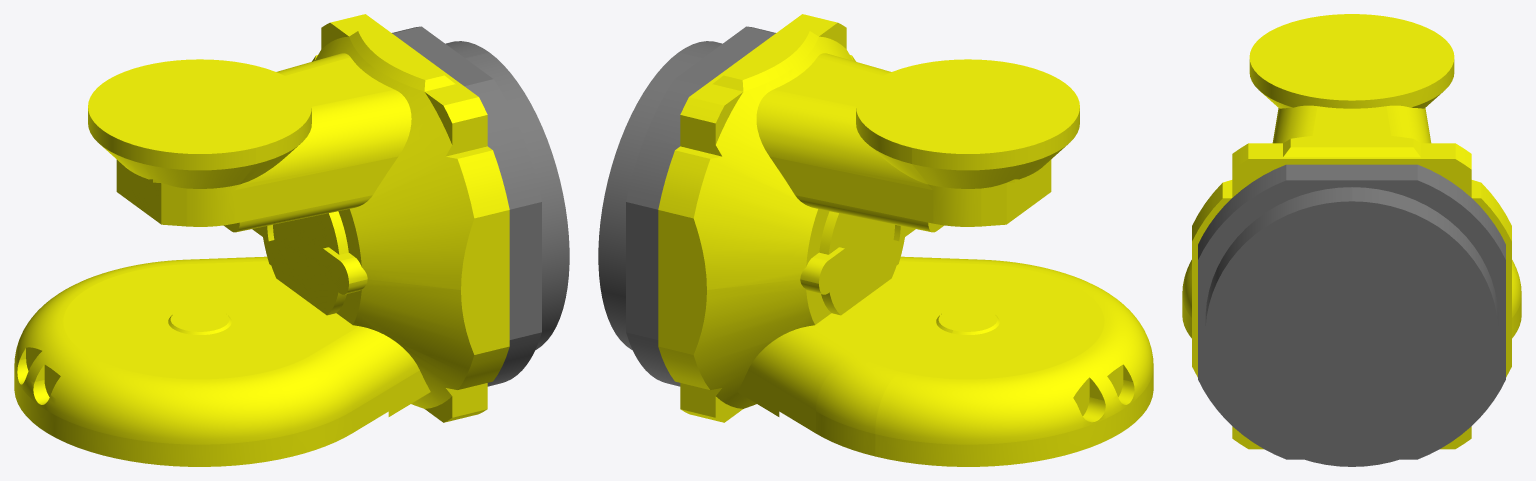
3 views of the same model, side by side, from view 1: azimuth 30°, elevation 25°; view 2: azimuth 150°, elevation 25°; view 3: azimuth 270°, elevation 25° (orthographic). The views are drawn at different scales.
Parts seen in each view (by area): view 1: Mesh_0; view 2: Mesh_0; view 3: Mesh_0.
Boxes of the visible parts, x1,y1,x2,y2 form: Mesh_0: (14, 14, 569, 466); Mesh_0: (598, 14, 1153, 466); Mesh_0: (1182, 14, 1521, 466).
Bounding box in the file's own units: 0.3179 × 0.219 × 0.227.
